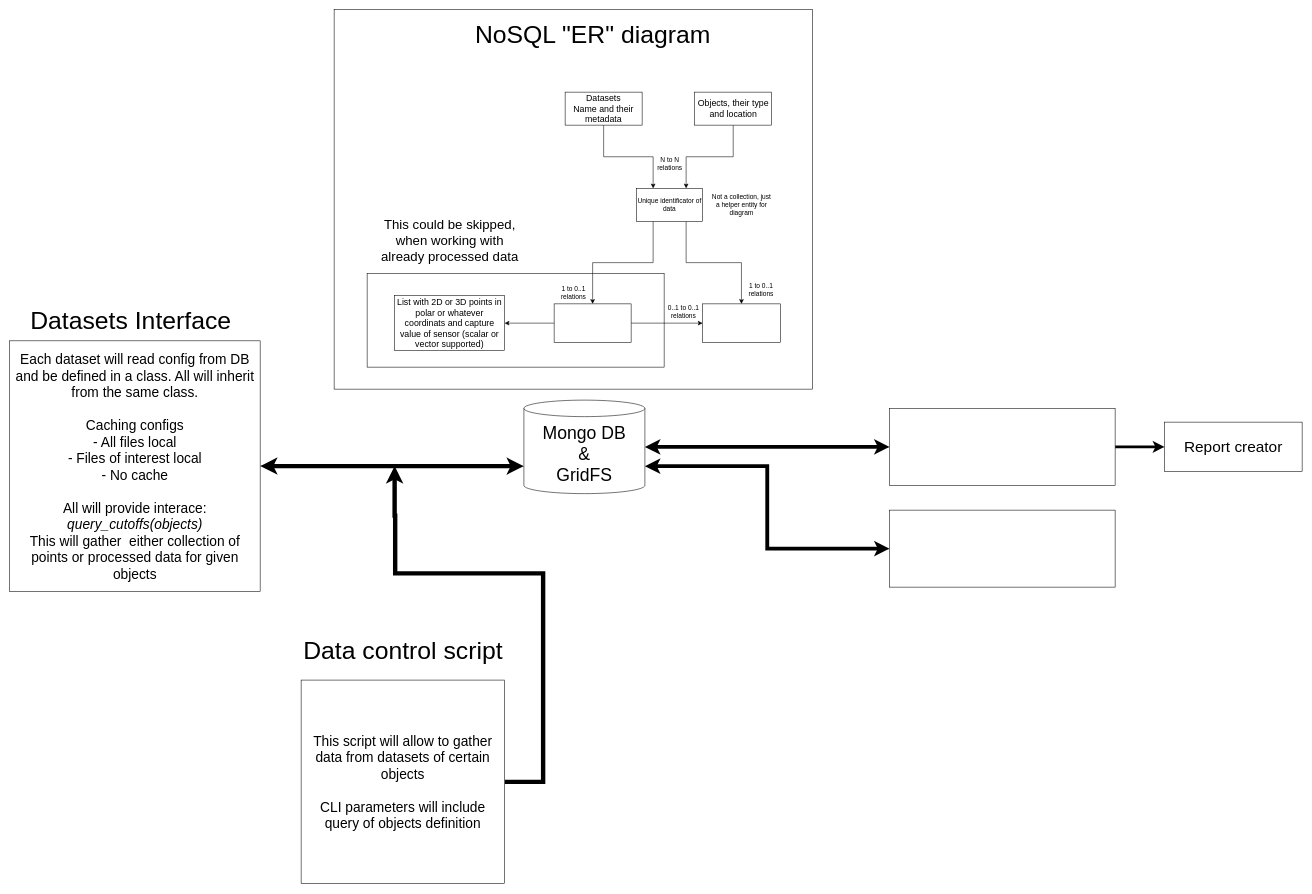
This 1312x894 diagram has some shape labels left out. Here are the shapes that lost their labels. From the top down, the centre of each, then its label:
At point (592, 322): "Collections of points".
At point (741, 322): "Processed data".
At point (1002, 446): "Data analysis".
At point (1002, 548): "Data visualization".
